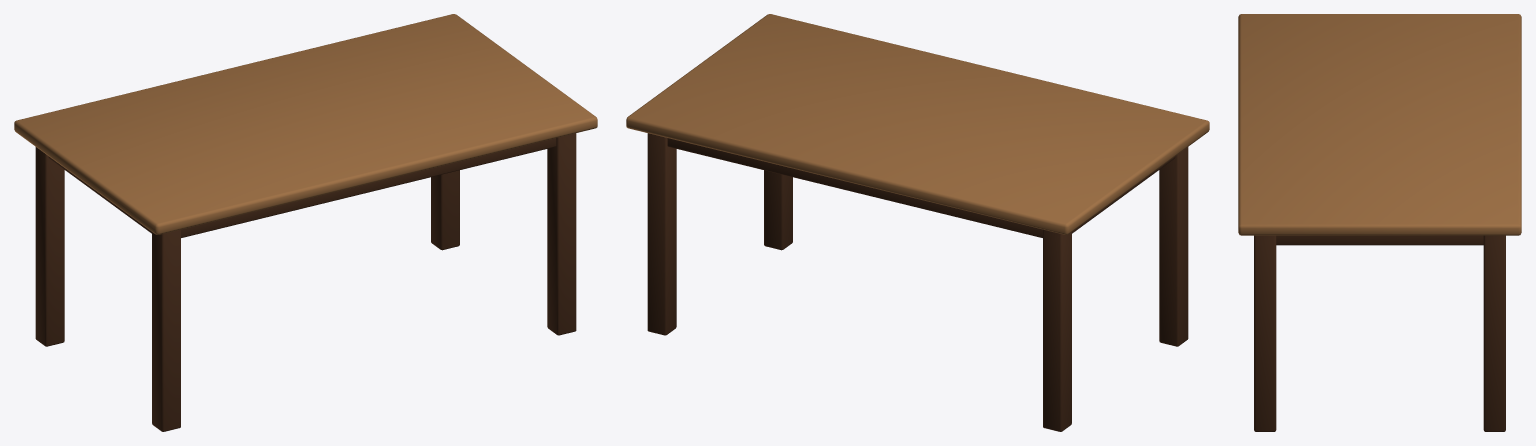
The model's file is Table_Dining_1.6m.glb.
3 renders of one model, left to right at view 1: azimuth 30°, elevation 25°; view 2: azimuth 150°, elevation 25°; view 3: azimuth 270°, elevation 25°, orthographic.
Visible parts, largest first — view 1: Table_Dining_1.6m; view 2: Table_Dining_1.6m; view 3: Table_Dining_1.6m.
Part boxes in pixels (bbox=[...]): Table_Dining_1.6m: bbox=[14, 14, 597, 431]; Table_Dining_1.6m: bbox=[626, 14, 1209, 431]; Table_Dining_1.6m: bbox=[1238, 14, 1521, 431].
Bounding box in the file's own units: 1.6 × 0.75 × 0.9.
